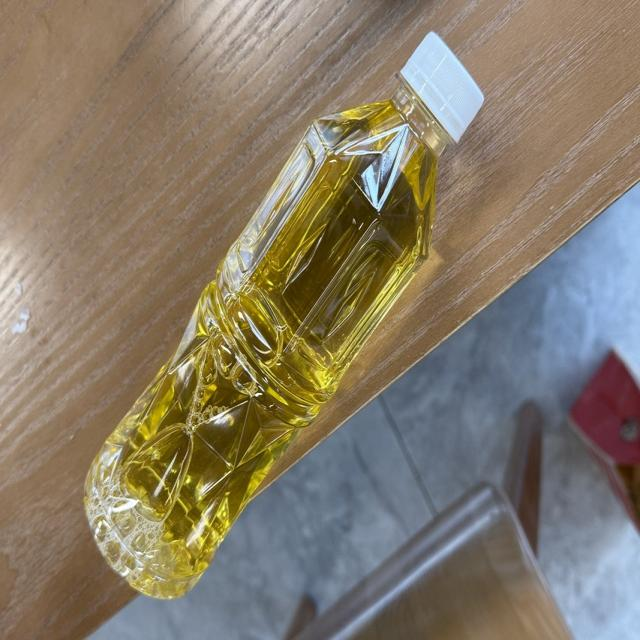high: (85, 32, 482, 596)
